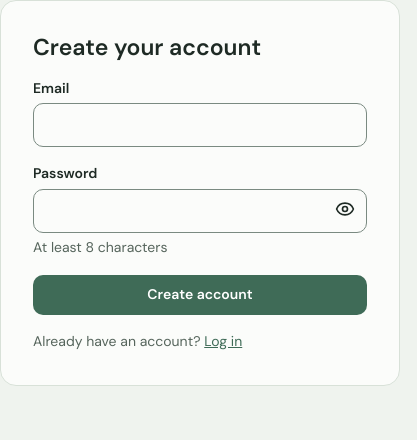
Test case: Register › asks for at least 8 characters before sending anything
The image size is (417, 440).
In the field labelled "Email": x=200, y=125 [33,103,367,147], type "a@b.co"
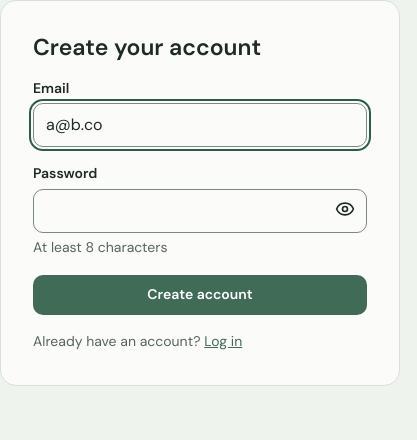
In the password field labelled "Password": x=200, y=211 [33,189,367,233], type "short12"
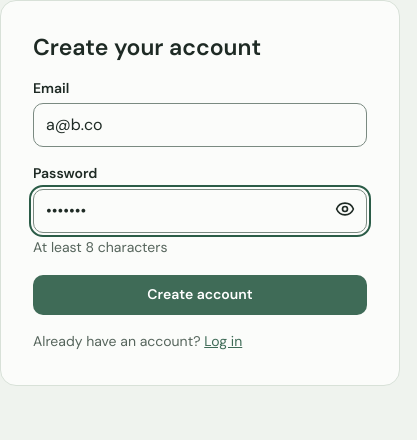
Click the button "Create account": x=200, y=295 [33,275,367,315]
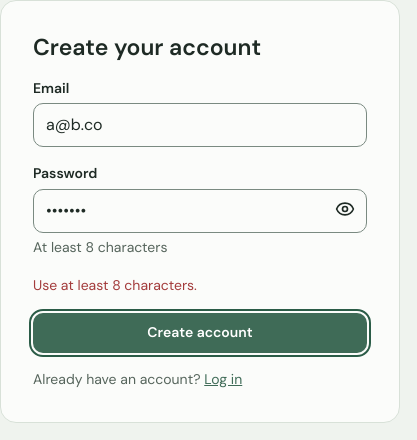
Now the text "Use at least 8 characters." is shown, box [33,276,197,294]
